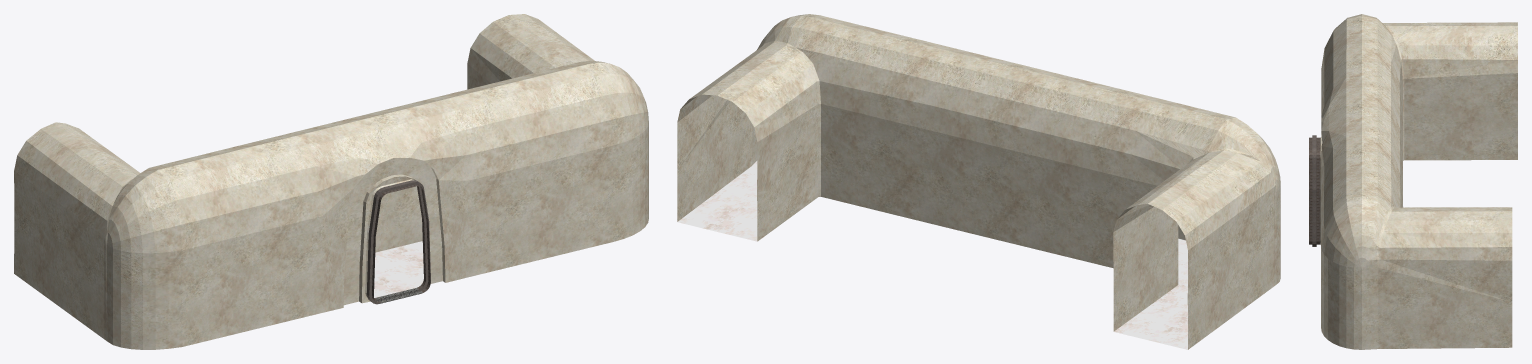
Rendered from thm_tato_assoc_hall_civ_s02_r1_foyer_mesh_r1.fbx.
3 views of the same model, side by side, from view 1: azimuth 30°, elevation 25°; view 2: azimuth 150°, elevation 25°; view 3: azimuth 270°, elevation 25° (orthographic). The views are drawn at different scales.
Visible parts, largest first — view 1: mesh_node; view 2: mesh_node; view 3: mesh_node.
Boxes of the visible parts, bbox=[...] form: mesh_node: bbox=[14, 14, 648, 349]; mesh_node: bbox=[677, 14, 1280, 349]; mesh_node: bbox=[1309, 14, 1517, 349].
Bounding box in the file's own units: 15.81 × 4.55 × 6.31.
